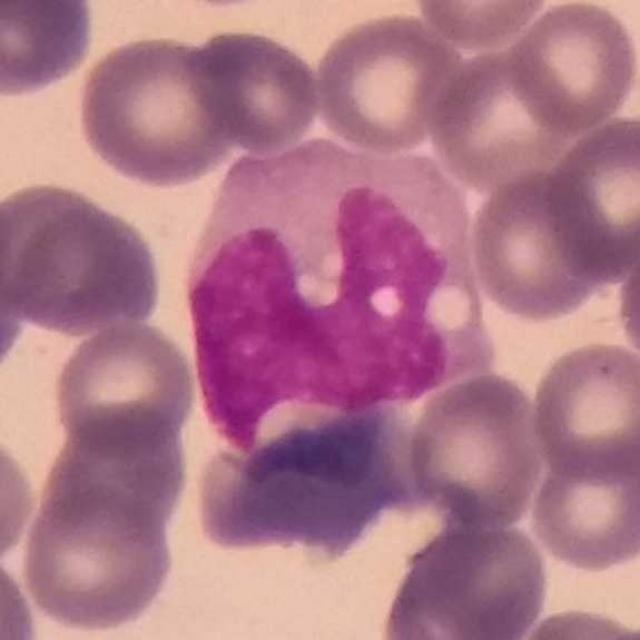mono: (182, 130, 520, 485)
